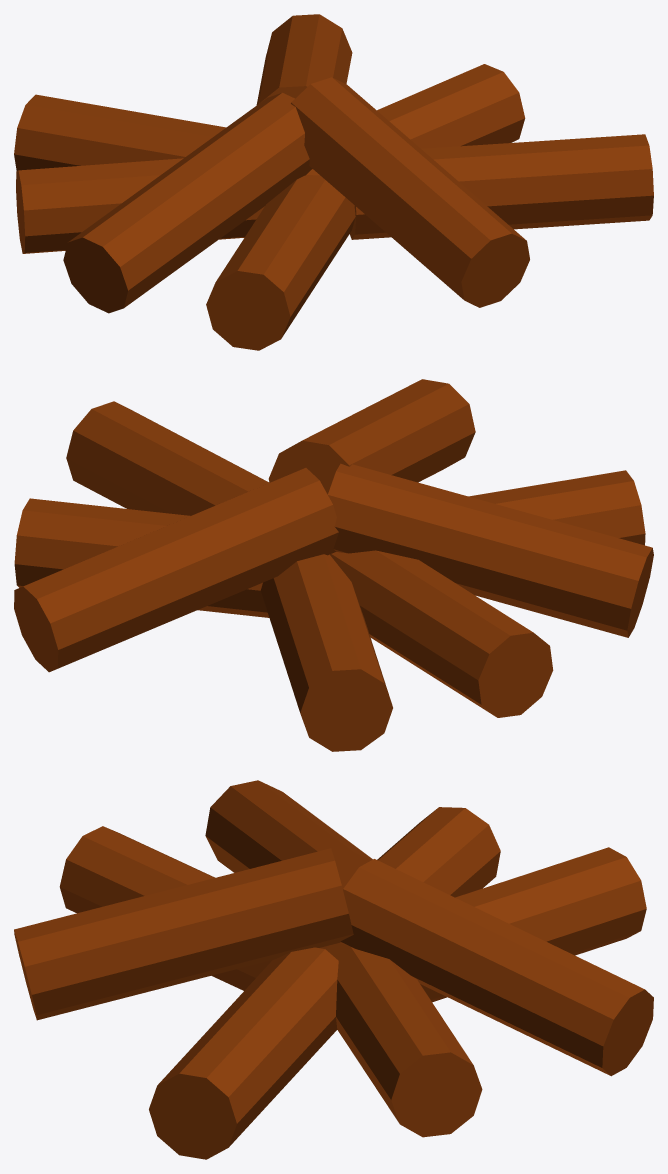
Rendered from Campfire.fbx.
3 renders of one model, top to bottom at view 1: azimuth 30°, elevation 25°; view 2: azimuth 150°, elevation 25°; view 3: azimuth 270°, elevation 25°, orthographic. The views are drawn at different scales.
Visible parts, largest first — view 1: Campfire; view 2: Campfire; view 3: Campfire.
Boxes of the visible parts, left/top/right/bottom form: Campfire: left=14, top=14, right=653, bottom=350; Campfire: left=14, top=379, right=653, bottom=751; Campfire: left=14, top=780, right=653, bottom=1159.
Bounding box in the file's own units: 90.53 × 24.32 × 83.57.
